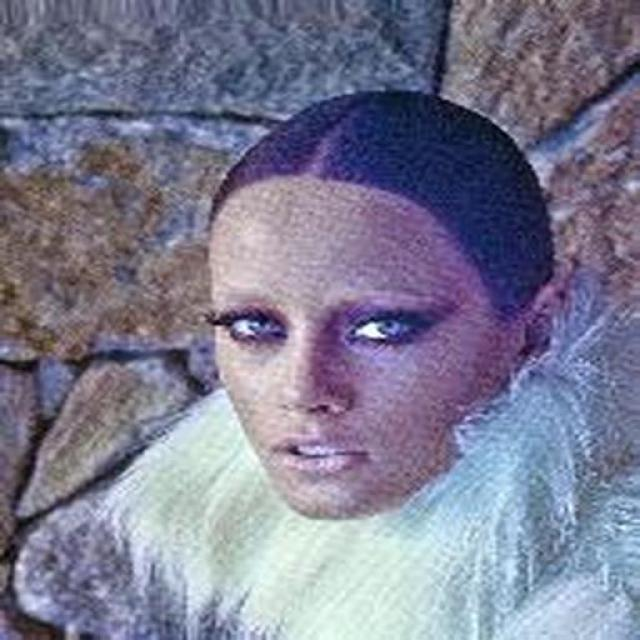bareface: (206, 137, 522, 538)
